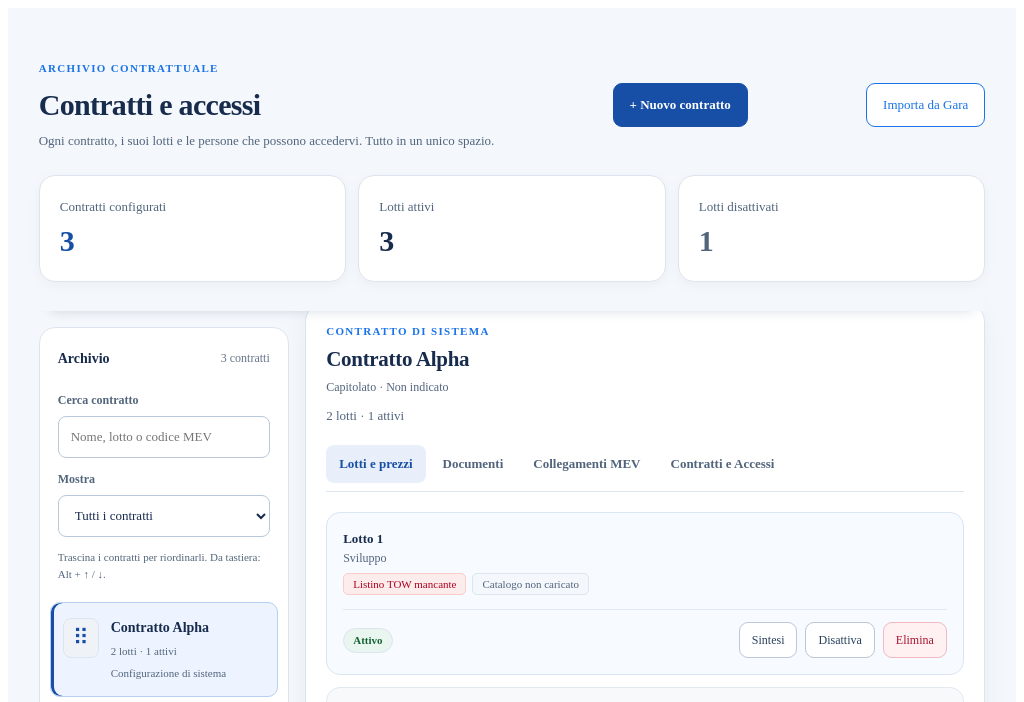
uses saved MEV links for members and filters unlinked configurations
Click the button "Contratti e Accessi" at (722, 464), box x1=658 y1=445 x2=788 y2=483
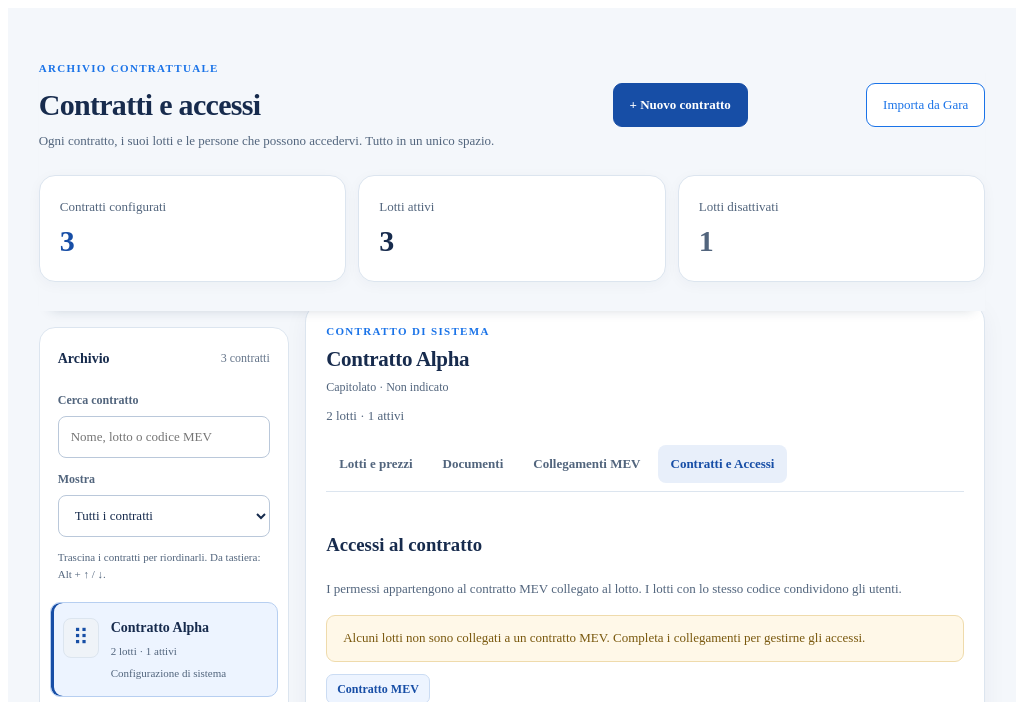
Select "Da collegare a MEV" in the dropdown labelled "Mostra" at (164, 516), box x1=58 y1=495 x2=270 y2=537
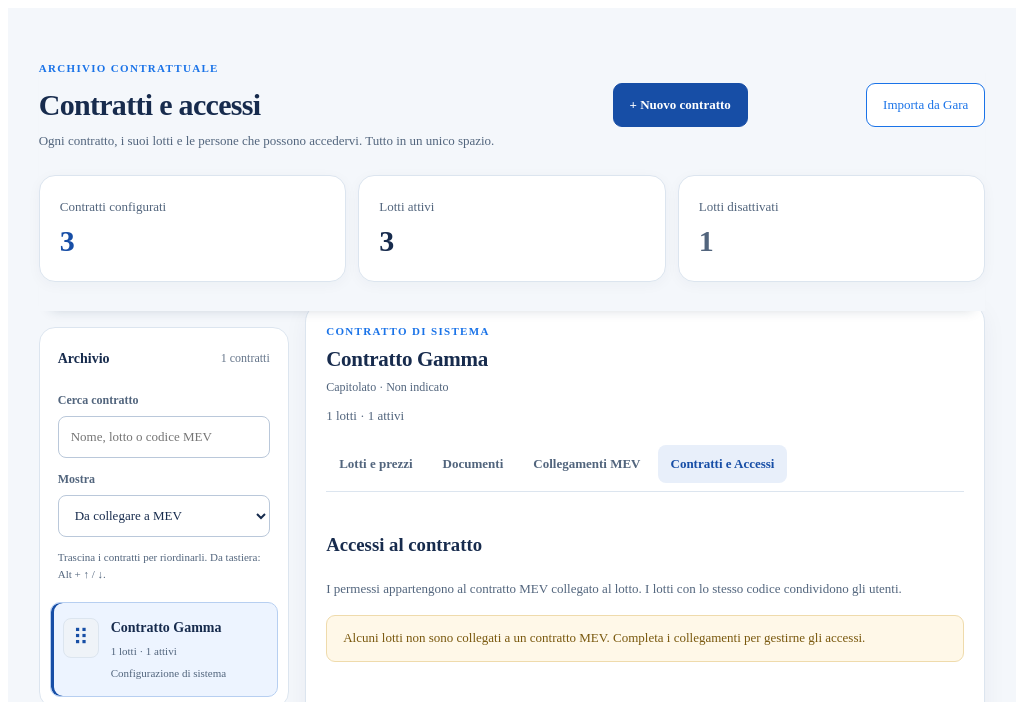
Expected: the text "Contratto Gamma" is shown, x1=111 y1=618 x2=226 y2=638
Result: the button "Contratto Alpha" is gone
